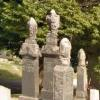Statue: (12, 9, 95, 96)
